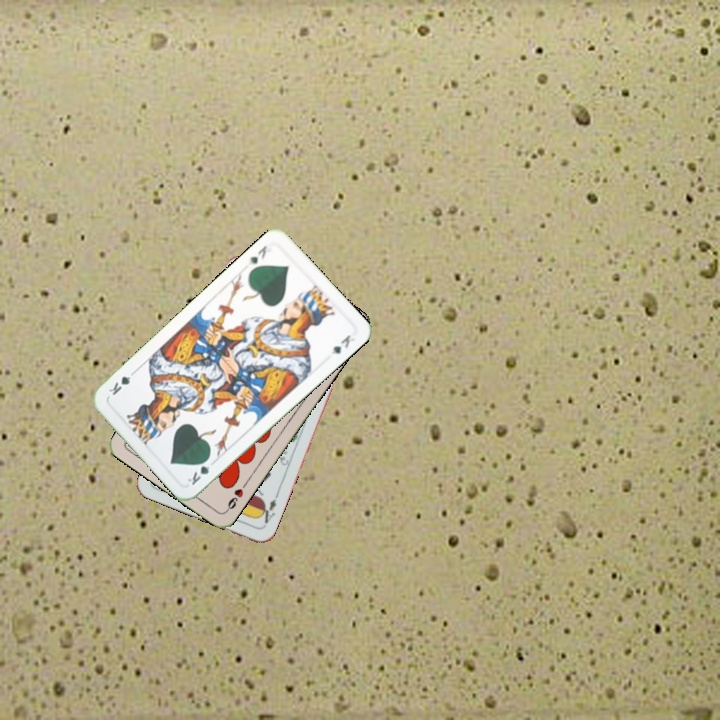EA: (255, 490, 281, 529)
GK: (183, 453, 213, 488), (244, 241, 270, 268)
H9: (222, 479, 249, 514)
